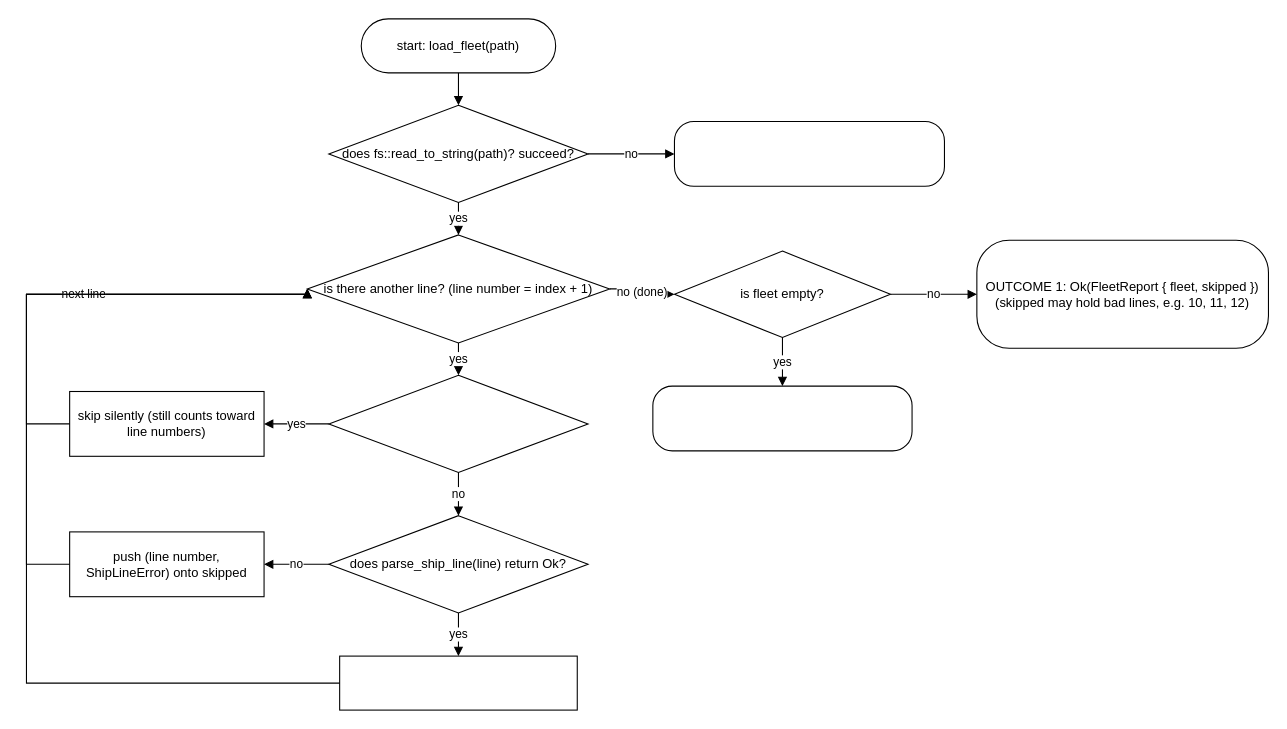
The diagram is 1287 pixels wide and 729 high, and some of its shapes have lost their labels. Here are the shapes that lost their labels. From the top down, the box of each, then its label:
(673, 120, 944, 186): OUTCOME 2: Err(DataError::Io(..)) (missing file, folder, unreadable)
(328, 374, 588, 473): is the line blank or does it start with #?
(652, 385, 912, 451): OUTCOME 3: Err(DataError::NoShips(path))
(339, 655, 577, 710): push the ShipSpec onto fleet
